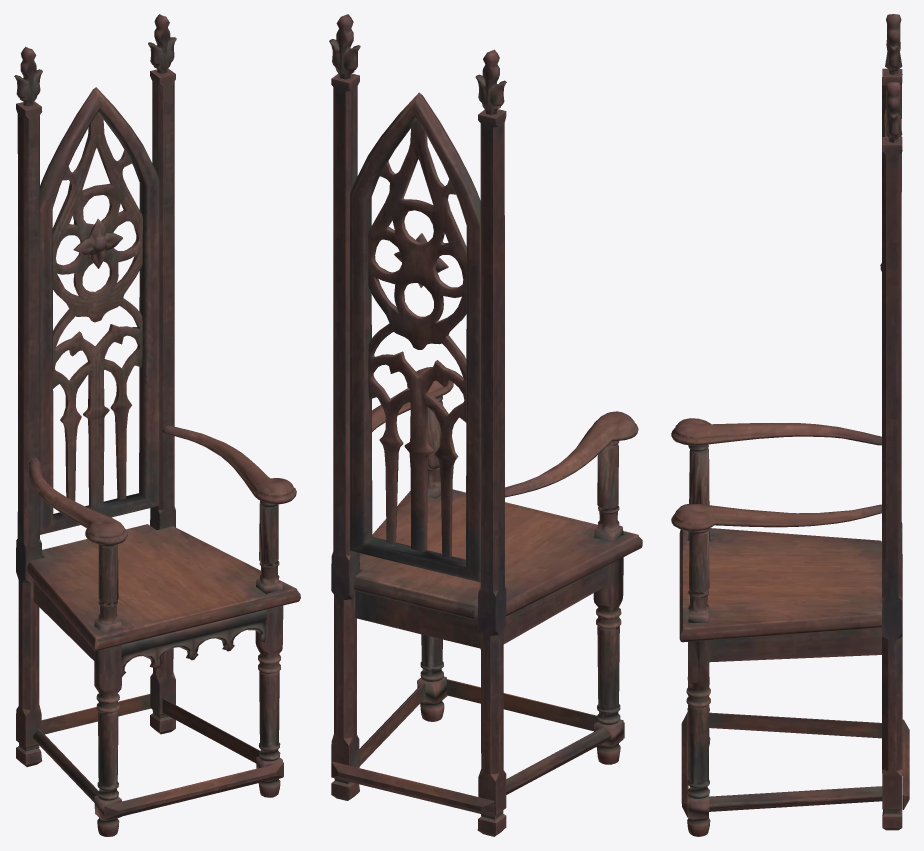
Rendered from WoodenChair_01.9e6297c4.glb.
3 renders of one model, left to right at view 1: azimuth 30°, elevation 25°; view 2: azimuth 150°, elevation 25°; view 3: azimuth 270°, elevation 25°, orthographic. The views are drawn at different scales.
Parts seen in each view (by area): view 1: WoodenChair_01; view 2: WoodenChair_01; view 3: WoodenChair_01.
Part boxes in pixels (<box>): WoodenChair_01: <box>14,14,300,836</box>; WoodenChair_01: <box>329,14,642,836</box>; WoodenChair_01: <box>671,14,909,836</box>.
Size of the model in its own units: 0.3025 by 1 by 0.2896.
Materials: 1 (1 with a texture image).
